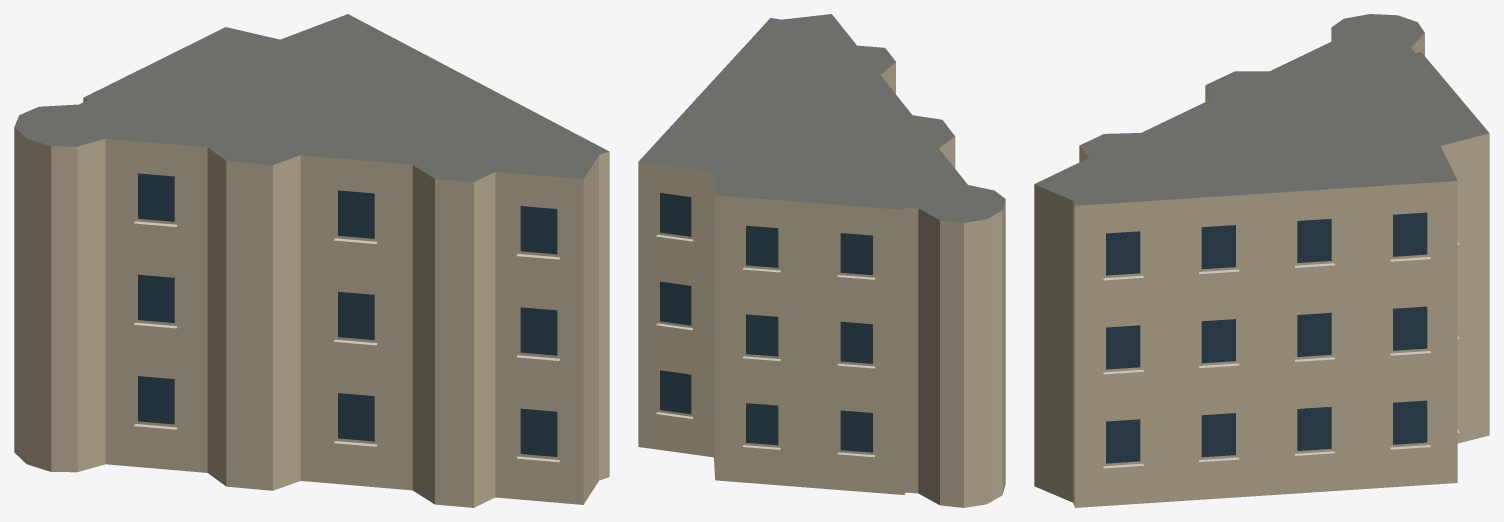
3 views of the same model, side by side, from view 1: azimuth 30°, elevation 25°; view 2: azimuth 150°, elevation 25°; view 3: azimuth 270°, elevation 25° (orthographic). The views are drawn at different scales.
Parts seen in each view (by area): view 1: Footprint 0, Inferred window bays, Window sills; view 2: Footprint 0, Inferred window bays, Window sills; view 3: Footprint 0, Inferred window bays, Window sills.
Part boxes in pixels (left/top/right/bottom): Footprint 0: left=14, top=14, right=609, bottom=507; Inferred window bays: left=138, top=173, right=557, bottom=456; Window sills: left=134, top=221, right=560, bottom=462; Footprint 0: left=638, top=14, right=1005, bottom=507; Inferred window bays: left=660, top=193, right=872, bottom=452; Window sills: left=656, top=234, right=875, bottom=457; Footprint 0: left=1034, top=14, right=1489, bottom=507; Inferred window bays: left=1106, top=212, right=1427, bottom=463; Window sills: left=1103, top=241, right=1459, bottom=468.
Bounding box in the file's own units: 16.22 × 11.85 × 16.19.
